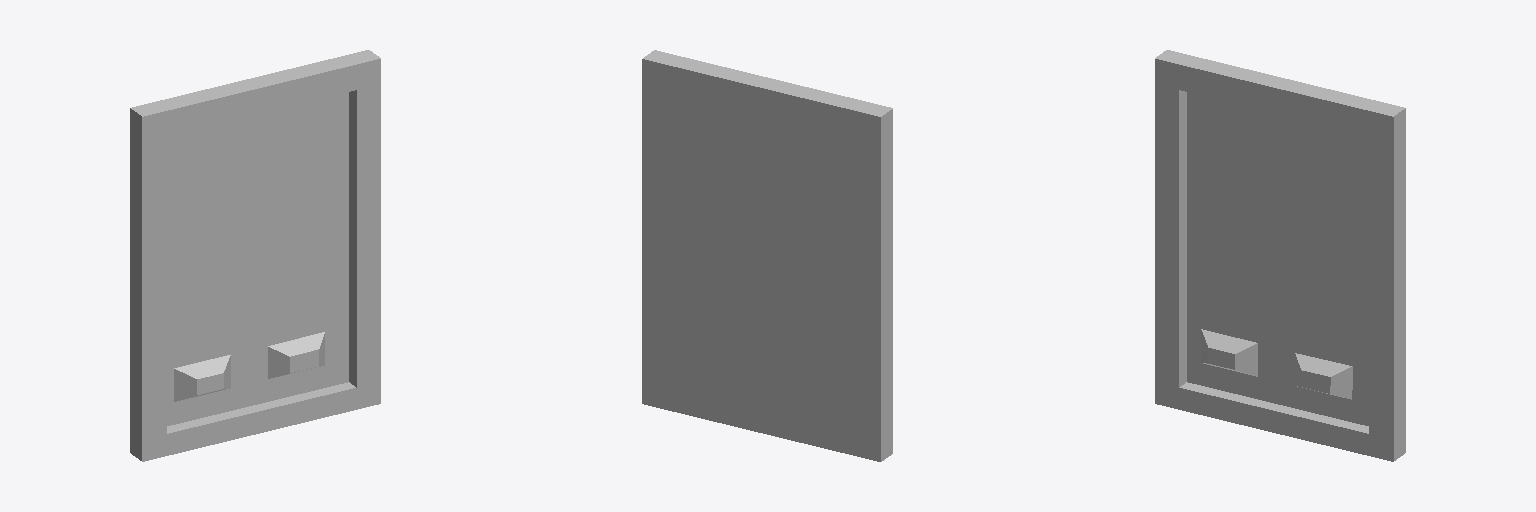
File: przelacznikFrame.obj
3 renders of one model, left to right at view 1: azimuth 30°, elevation 25°; view 2: azimuth 150°, elevation 25°; view 3: azimuth 330°, elevation 25°, orthographic.
Visible parts, largest first — view 1: przelacznik_Cube.081; view 2: przelacznik_Cube.081; view 3: przelacznik_Cube.081.
Boxes of the visible parts, x1=… form: przelacznik_Cube.081: x1=130, y1=50, x2=380, y2=461; przelacznik_Cube.081: x1=642, y1=50, x2=892, y2=461; przelacznik_Cube.081: x1=1155, y1=50, x2=1405, y2=461.
Bounding box in the file's own units: 0.9753 × 1.35 × 0.0898.